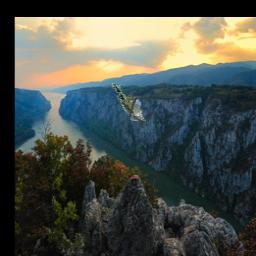Cuckoo: (113, 83, 147, 121)
